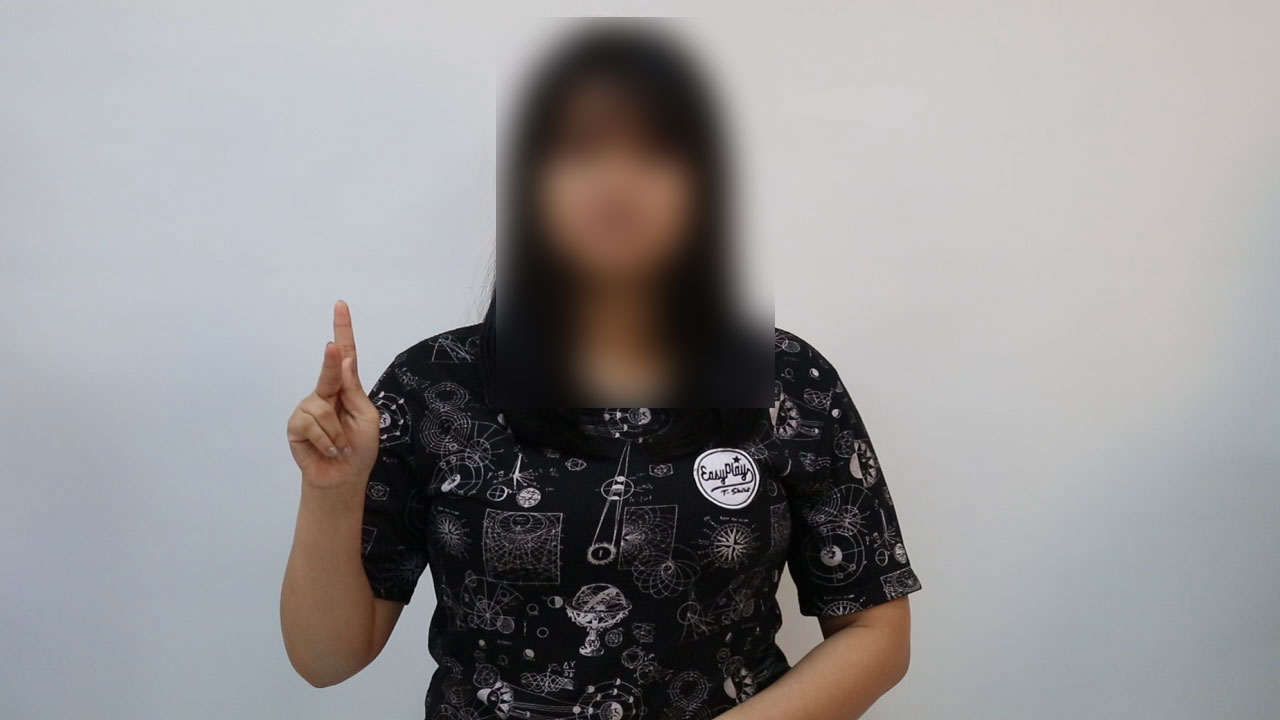ko: (219, 282, 461, 530)
